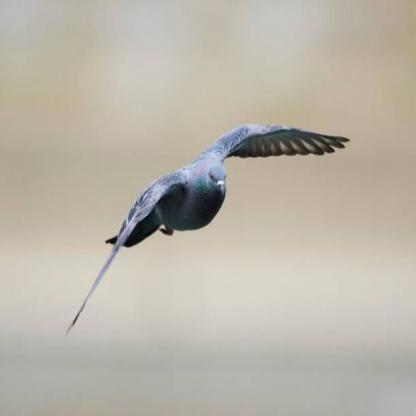Flying Rat: (66, 125, 350, 332)
